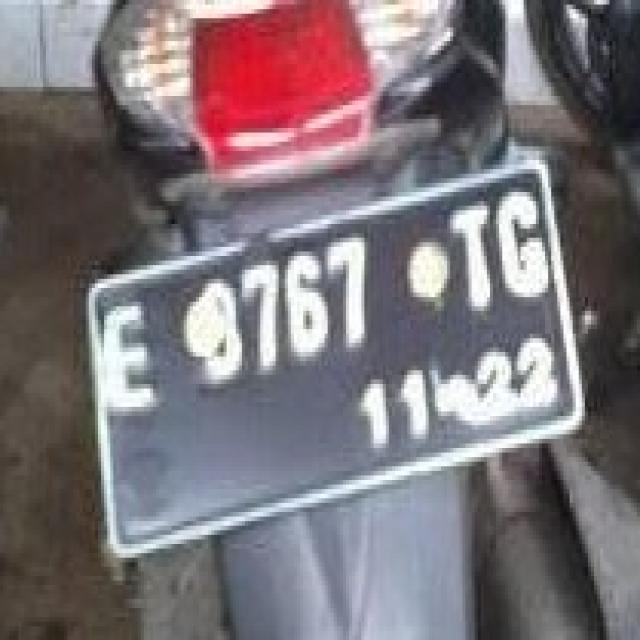plate: (76, 151, 582, 539)
